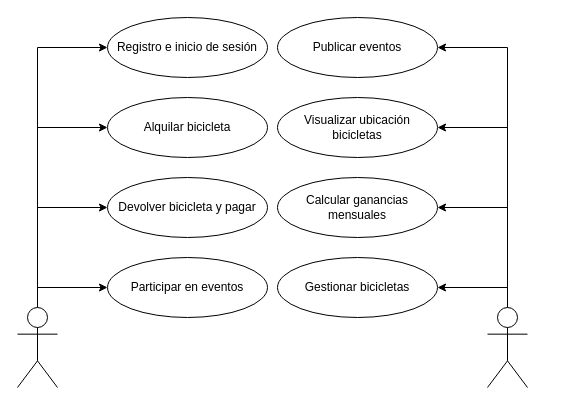
Some shapes in this 562 by 405 pixel diagram are drawn without their labels. Each missing label, with the centre of its shape:
"Administrador" belongs at pixel 507 347.
"Usuario" belongs at pixel 37 347.
